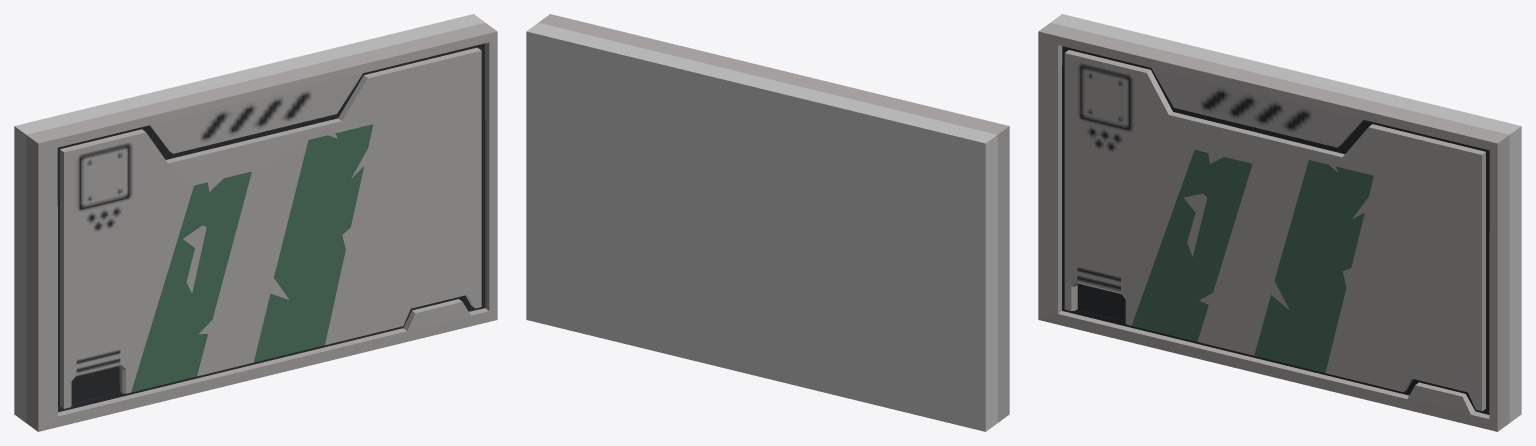
Rendered from SM_Bld_Wall_Half_01.fbx.
The picture shows the model from 3 angles, left to right: view 1: azimuth 30°, elevation 25°; view 2: azimuth 150°, elevation 25°; view 3: azimuth 330°, elevation 25°; orthographic projection.
Parts seen in each view (by area): view 1: SM_Bld_Wall_Half_01; view 2: SM_Bld_Wall_Half_01; view 3: SM_Bld_Wall_Half_01.
Part boxes in pixels (x1,y1,x2,y2): SM_Bld_Wall_Half_01: (14,14,497,431); SM_Bld_Wall_Half_01: (526,14,1009,431); SM_Bld_Wall_Half_01: (1038,14,1521,431).
Size of the model in its own units: 250 by 150 by 22.62.
